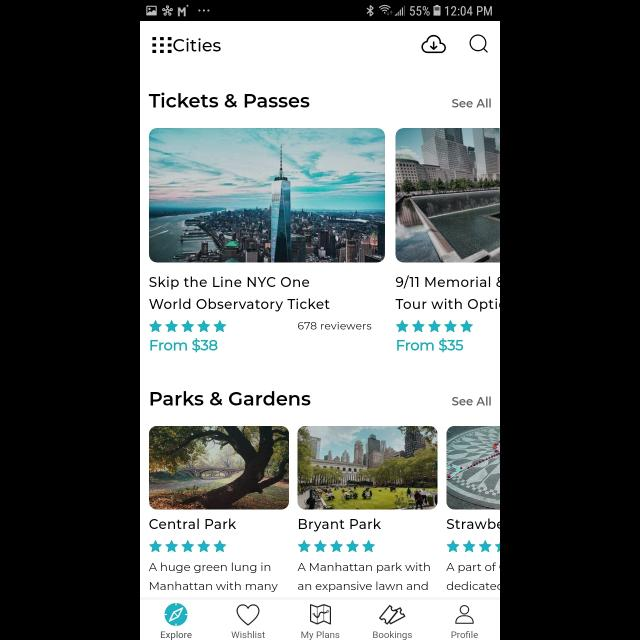icon: (298, 540, 376, 552), (396, 320, 474, 332), (150, 540, 227, 552), (150, 320, 227, 332), (446, 540, 499, 552), (165, 602, 188, 626), (379, 605, 405, 625), (237, 604, 260, 626), (422, 34, 446, 54), (310, 604, 332, 624), (454, 604, 474, 624), (468, 34, 488, 54), (152, 38, 172, 54)
image: (149, 128, 385, 264), (396, 128, 500, 264), (298, 426, 438, 510), (149, 426, 289, 509), (446, 426, 500, 509)
text: (150, 276, 330, 312), (298, 562, 430, 592), (150, 562, 278, 592), (396, 276, 500, 312), (148, 92, 310, 108), (151, 390, 311, 406), (446, 562, 500, 590), (298, 518, 382, 532), (150, 518, 236, 530), (396, 338, 464, 352), (150, 338, 218, 352), (174, 39, 222, 53), (446, 518, 499, 530), (298, 322, 372, 330), (452, 396, 492, 406), (372, 630, 412, 640), (302, 630, 340, 640), (452, 99, 492, 108), (160, 630, 192, 640), (450, 630, 478, 638), (232, 632, 266, 638)
uppertaskbar: (140, 1, 500, 22)
